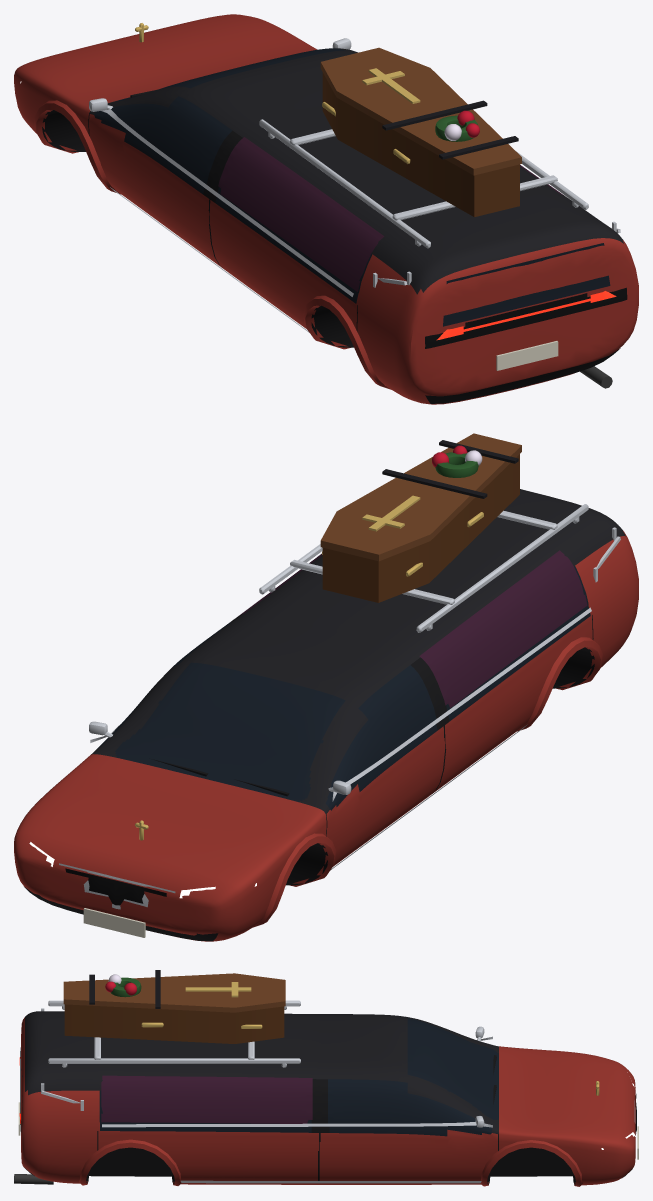
Rendered from car_pallbearer.glb.
3 views of the same model, one above another, from view 1: azimuth 30°, elevation 25°; view 2: azimuth 150°, elevation 25°; view 3: azimuth 270°, elevation 25° (orthographic). The views are drawn at different scales.
Parts seen in each view (by area): view 1: body, parts, lips, strip4, strip7, strip8; view 2: body, parts, lips, strip1; view 3: body, parts, lips.
Part boxes in pixels (left/top/right/bottom): body: left=14, top=14, right=638, bottom=404; parts: left=89, top=23, right=620, bottom=388; lips: left=34, top=100, right=390, bottom=389; strip4: left=425, top=287, right=627, bottom=348; strip7: left=443, top=243, right=610, bottom=326; strip8: left=425, top=348, right=620, bottom=403; body: left=14, top=489, right=638, bottom=941; parts: left=83, top=433, right=620, bottom=937; lips: left=253, top=637, right=602, bottom=927; strip1: left=65, top=868, right=166, bottom=905; body: left=21, top=1011, right=635, bottom=1185; parts: left=14, top=970, right=638, bottom=1184; lips: left=79, top=1139, right=582, bottom=1186.
Size of the model in its own units: 2.05 by 1.81 by 5.69.
